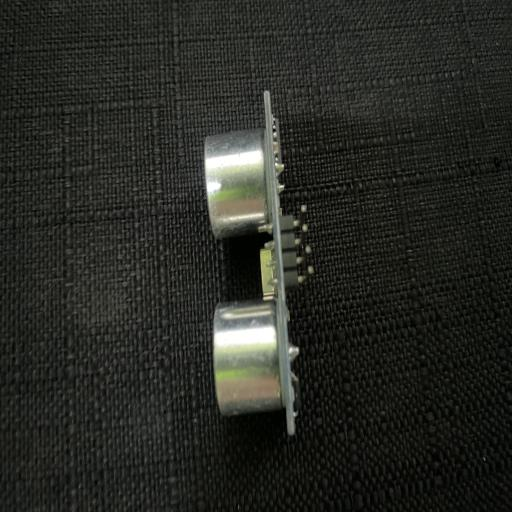Ultrasonic Sensor: (202, 87, 314, 436)
